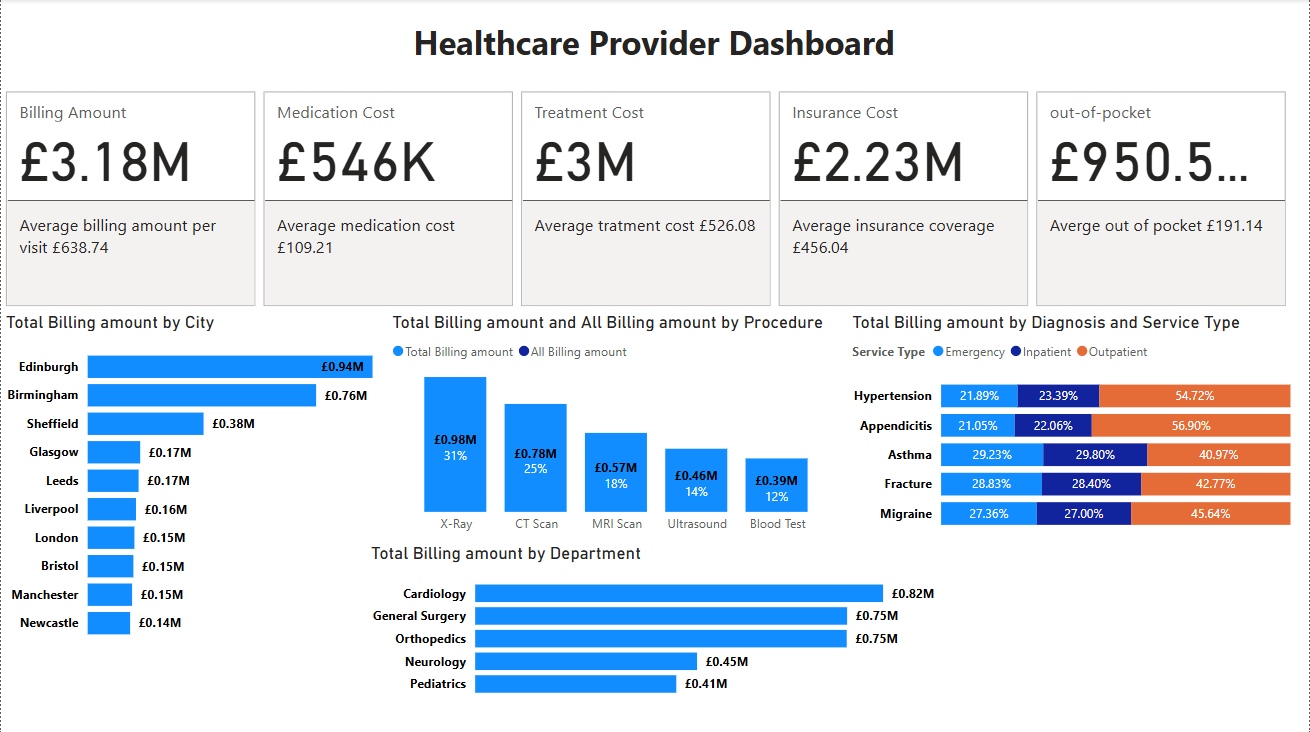

The dashboard page shown, as its layout file describes it:
{"tool":"powerbi","page":{"name":"Page 1","canvas":[1280,720],"ordinal":0},"visuals":[{"type":"cardVisual","fields":{"Data":["Daax calculation.Total Billing amount","Daax calculation.Total Medication Cost","Daax calculation.Total treatment cost","Daax calculation.Total insurance cost","Daax calculation.out-of-pocket"]},"box":[0,85.6,1266.9,220.1],"z":0},{"type":"barChart","fields":{"Category":["cities.City"],"Y":["Daax calculation.Total Billing amount"]},"box":[0,305.7,414.5,332.6],"z":1},{"type":"columnChart","fields":{"Category":["procedures.Procedure"],"Y":["Daax calculation.Total Billing amount","Daax calculation.All Billing amount"]},"box":[377.9,305.7,450,226.2],"z":2},{"type":"hundredPercentStackedBarChart","fields":{"Y":["Daax calculation.Total Billing amount"],"Category":["diagnoses.Diagnosis"],"Series":["visits.Service Type"]},"box":[827.9,305.7,439,226.2],"z":3},{"type":"clusteredBarChart","fields":{"Category":["departments.Department"],"Y":["Daax calculation.Total Billing amount"]},"box":[357.1,531.9,564.9,161.4],"z":4},{"type":"textbox","box":[244.6,15.9,788.7,69.7],"z":5}]}

Visuals, with their boxes in screenshot pixels (x1, y1, x2, y2), scaled from the page's 1280x720 canvas onto the 1310x732 screenshot:
cardVisual - Daax calculation.Total Billing amount x Daax calculation.Total Medication Cost: detection(0, 87, 1297, 311)
barChart - cities.City x Daax calculation.Total Billing amount: detection(0, 311, 424, 649)
columnChart - procedures.Procedure x Daax calculation.Total Billing amount: detection(387, 311, 847, 541)
hundredPercentStackedBarChart - Daax calculation.Total Billing amount x diagnoses.Diagnosis: detection(847, 311, 1297, 541)
clusteredBarChart - departments.Department x Daax calculation.Total Billing amount: detection(365, 541, 944, 705)
textbox: detection(250, 16, 1058, 87)
